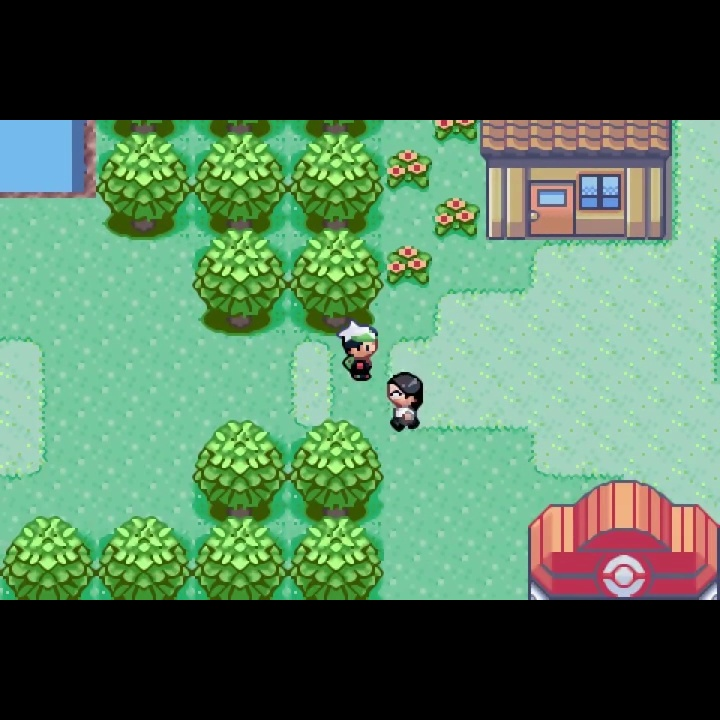house: (478, 120, 674, 243)
npc: (336, 316, 382, 384), (384, 369, 426, 434)
pokecen: (521, 478, 720, 598)
wall: (190, 228, 289, 338), (289, 227, 385, 339), (96, 132, 190, 241), (190, 419, 290, 519), (190, 135, 289, 230), (290, 419, 384, 518), (288, 135, 384, 231), (1, 514, 97, 600), (191, 517, 290, 599), (97, 515, 192, 600), (288, 517, 385, 599), (190, 121, 290, 147), (290, 121, 384, 147), (95, 121, 192, 145)
